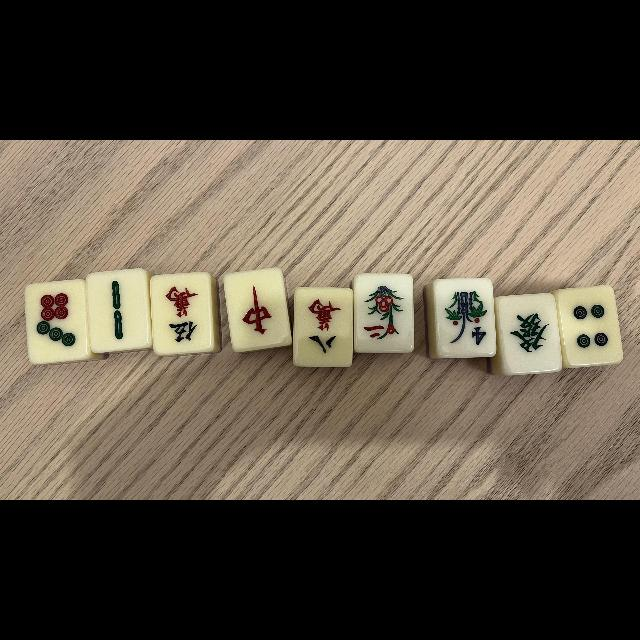b2: (90, 272, 148, 348)
c5: (154, 276, 212, 352)
c8: (296, 289, 349, 365)
d4: (560, 290, 620, 362)
d7: (28, 282, 86, 360)
dg: (502, 296, 560, 372)
dr: (230, 270, 286, 348)
f4-s: (436, 278, 494, 356)
s2-s: (356, 275, 412, 351)
